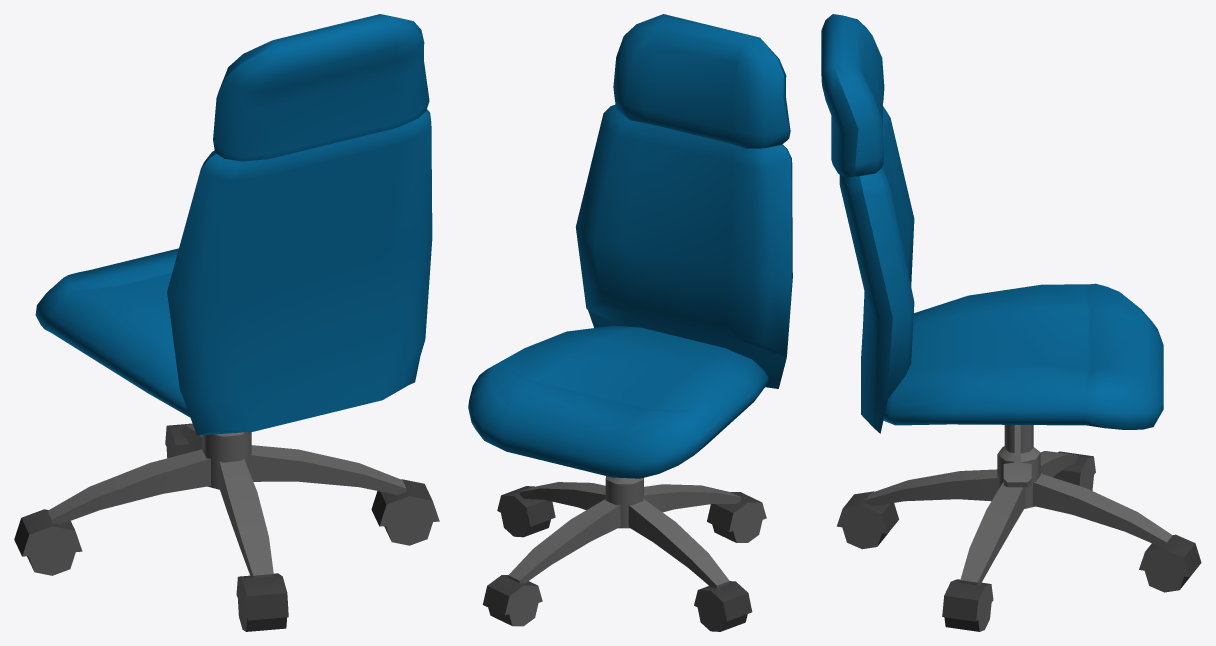
Rendered from mdl_chair.fbx.
The picture shows the model from 3 angles, left to right: view 1: azimuth 30°, elevation 25°; view 2: azimuth 150°, elevation 25°; view 3: azimuth 270°, elevation 25°; orthographic projection. The views are drawn at different scales.
Visible parts, largest first — view 1: Chair; view 2: Chair; view 3: Chair.
Part boxes in pixels (x1,y1,x2,y2): Chair: [14, 14, 439, 631]; Chair: [468, 14, 792, 631]; Chair: [821, 14, 1201, 631].
Bounding box in the file's own units: 53.35 × 84.6 × 55.56.
